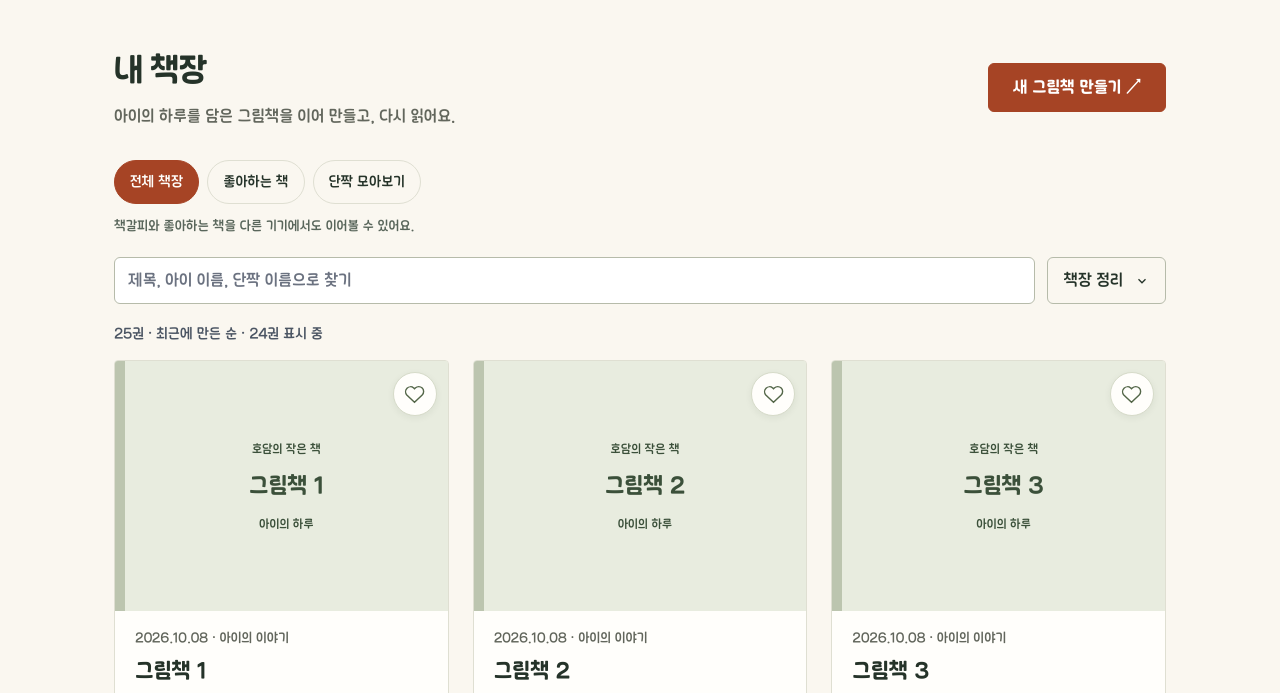
Test: MyStoryLibrary discovery › sorts before pagination and resets the visible page when the order changes
Check: the heading "그림책 1" is shown, box top-left (135, 659), bottom-right (206, 683)
Click the button "책장 정리".
click(1106, 281)  # box top-left (1046, 258), bottom-right (1166, 304)
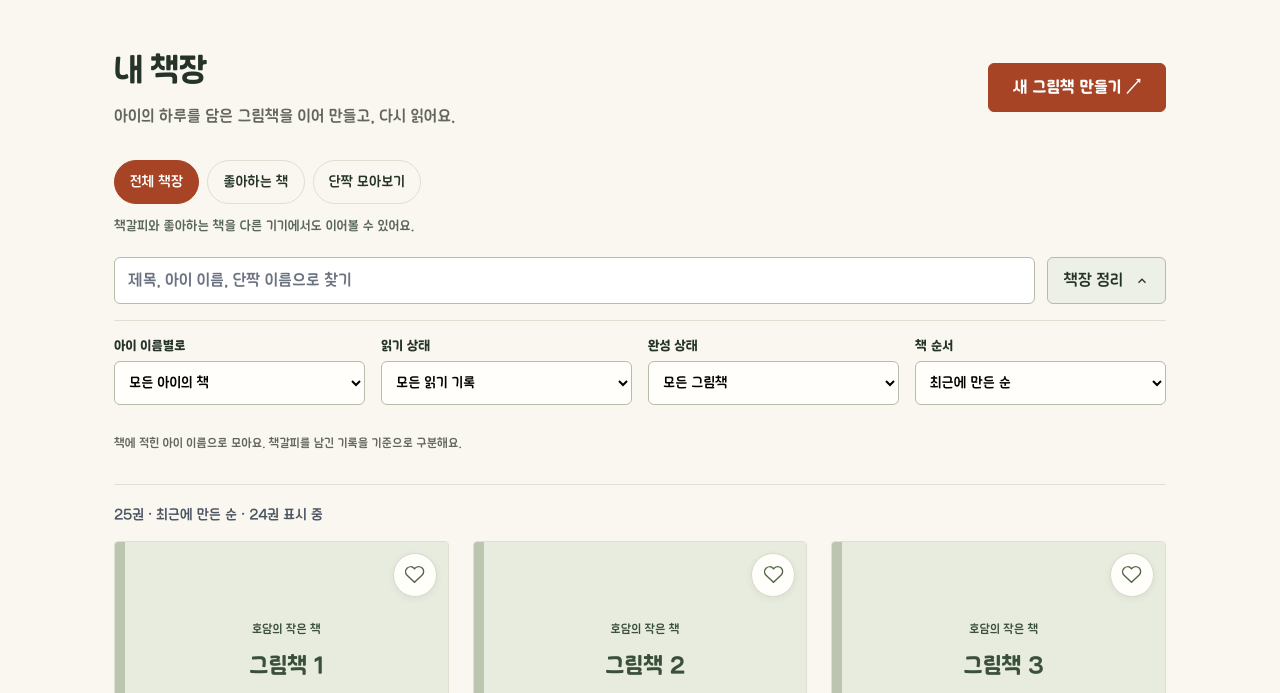
Select "최근 읽은 순" in the dropdown labelled "책 순서" at (1040, 384), box top-left (915, 362), bottom-right (1166, 406)
(page scrolled)
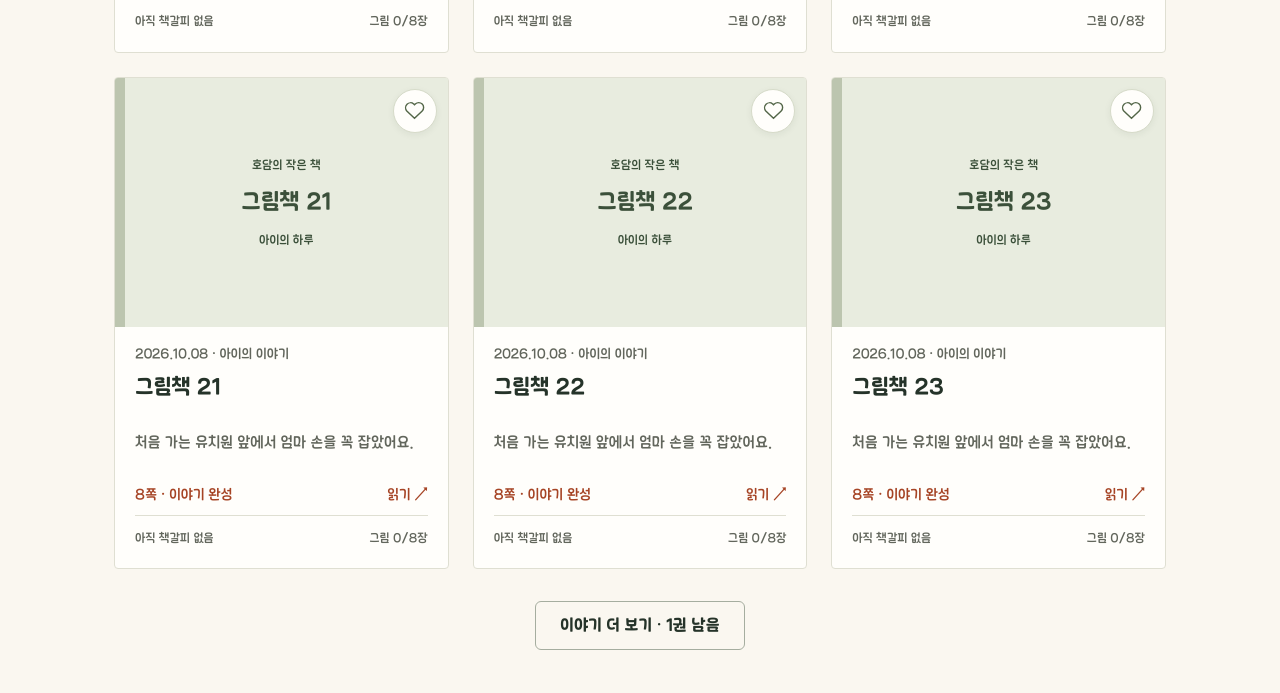
Check: the heading "그림책 24" is not shown
Click the button "이야기 더 보기 · 1권 남음".
click(640, 626)  # box top-left (535, 601), bottom-right (745, 650)
(page scrolled)
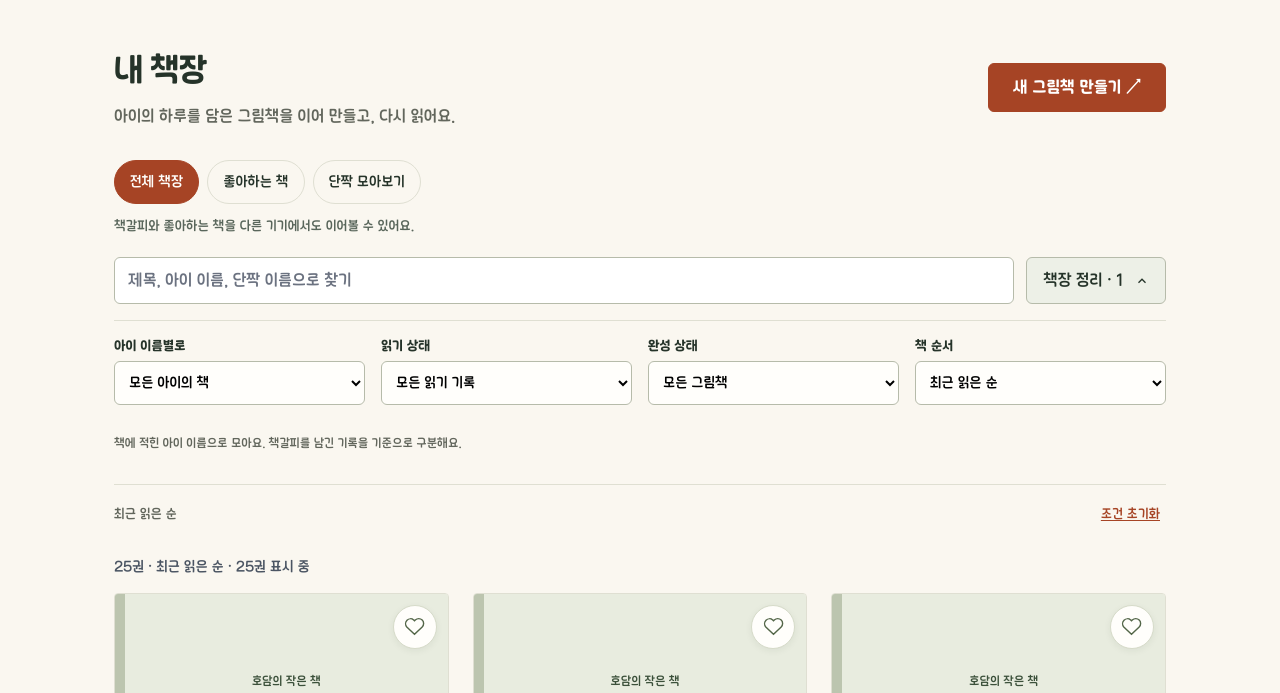
Select "오래된 책부터" in the dropdown labelled "책 순서" at (1040, 384), box top-left (915, 362), bottom-right (1166, 406)
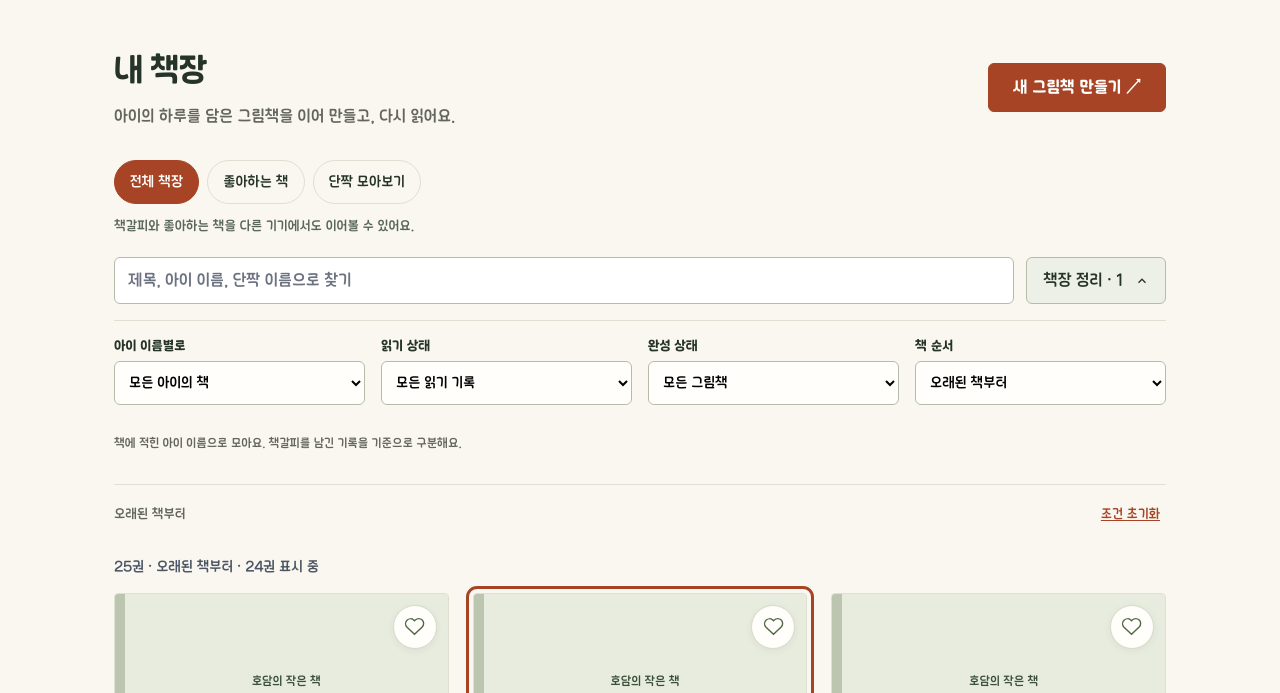
Check: the heading "그림책 1" is not shown
Select "제목 가나다순" in the dropdown labelled "책 순서" at (1040, 384), box top-left (915, 362), bottom-right (1166, 406)
(page scrolled)
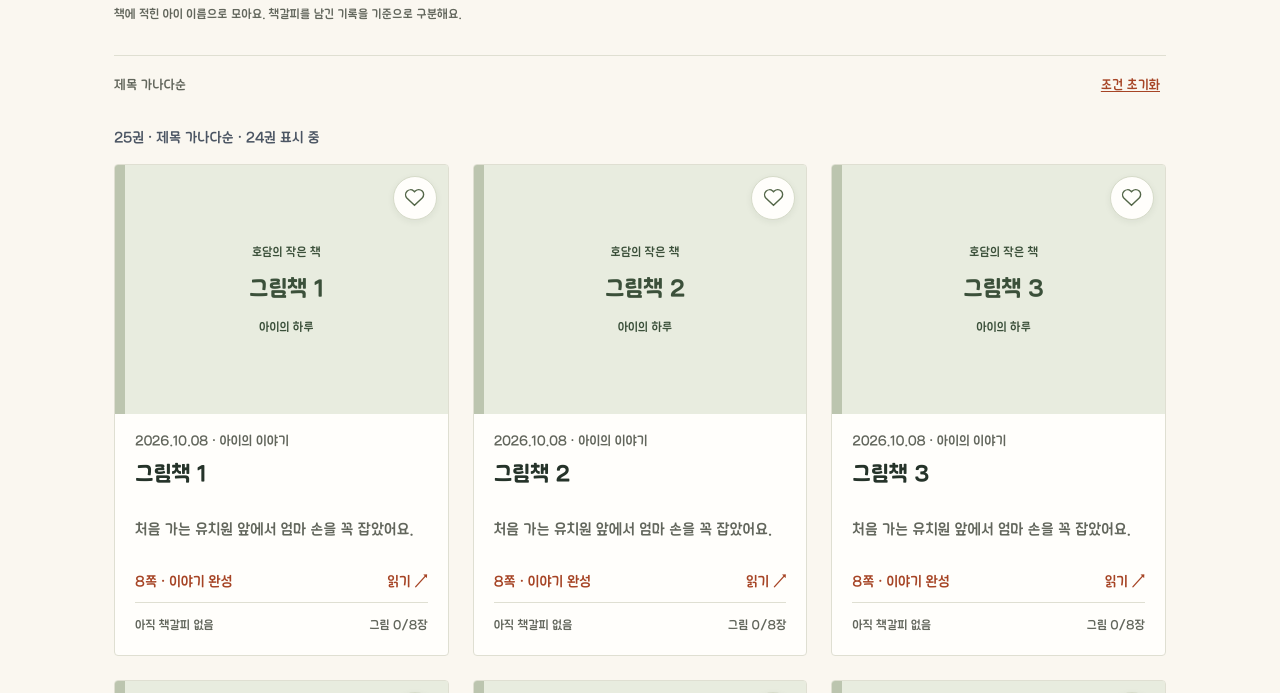
Check: the text "그림책 2" is shown, box top-left (473, 164), bottom-right (807, 656)
Check: the text "그림책 1" is shown, box top-left (114, 164), bottom-right (449, 656)
